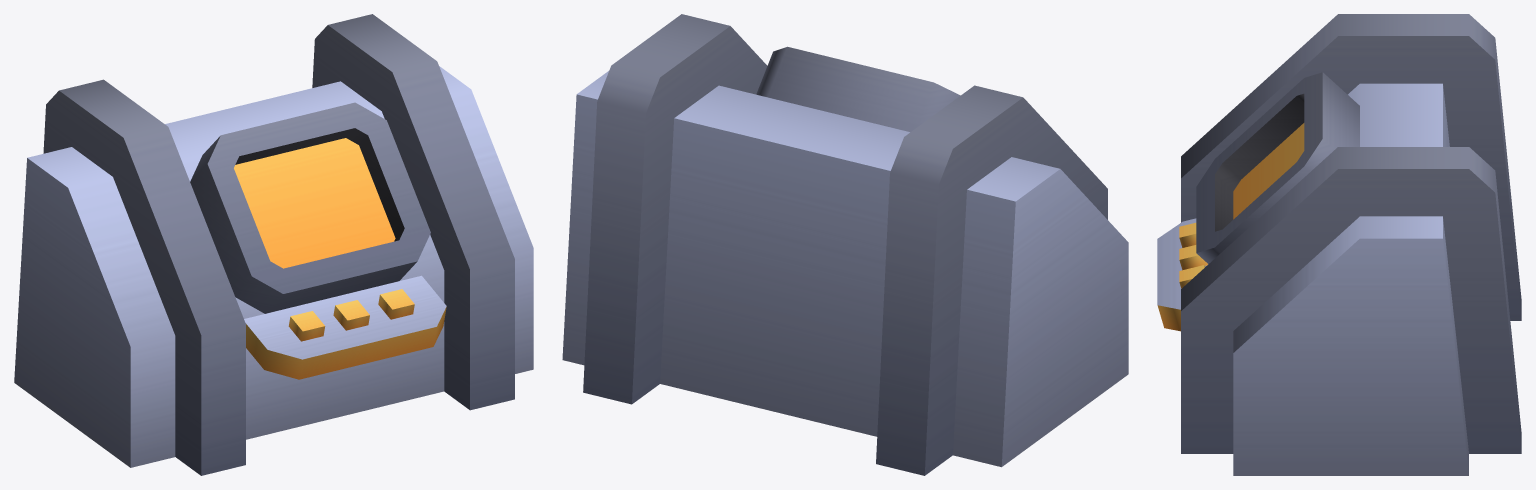
File: computer-system.obj
3 views of the same model, side by side, from view 1: azimuth 30°, elevation 25°; view 2: azimuth 150°, elevation 25°; view 3: azimuth 270°, elevation 25° (orthographic). The views are drawn at different scales.
Parts seen in each view (by area): view 1: computer-system; view 2: computer-system; view 3: computer-system.
Boxes of the visible parts, x1=… form: computer-system: x1=14, y1=14, x2=533, y2=475; computer-system: x1=562, y1=14, x2=1128, y2=475; computer-system: x1=1157, y1=14, x2=1521, y2=475.
Size of the model in its own units: 0.9 by 0.6 by 0.6949.
1 material, 1 textured.
